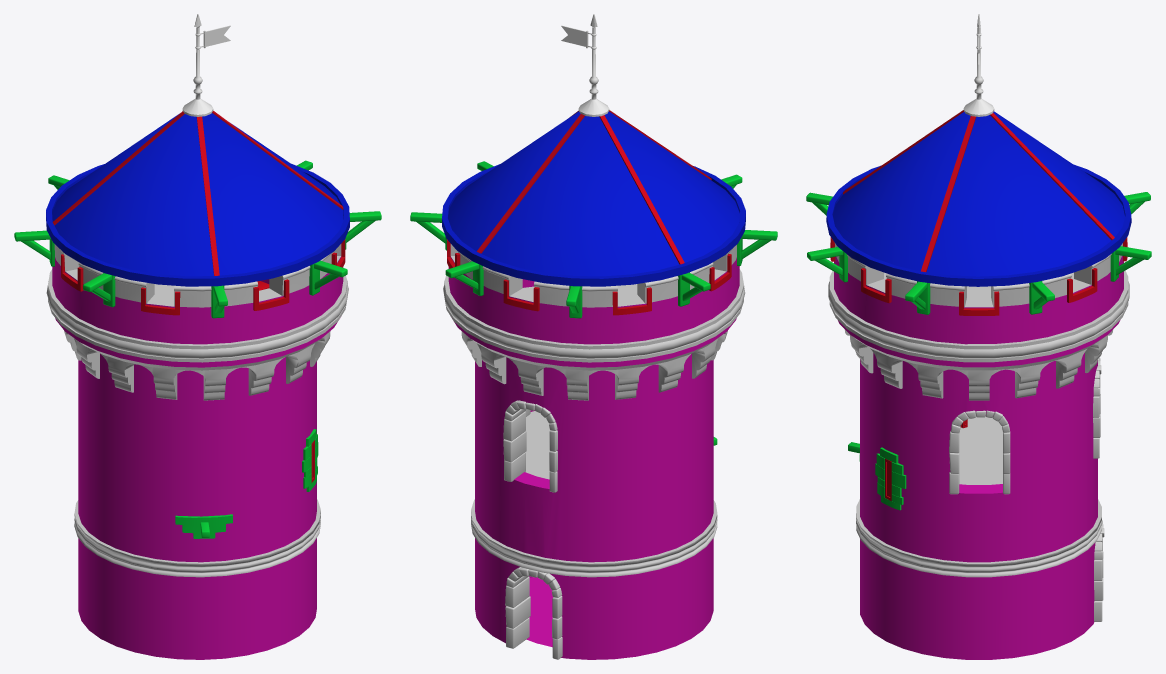
The model's file is Tower_3.fbx.
The picture shows the model from 3 angles, left to right: view 1: azimuth 30°, elevation 25°; view 2: azimuth 150°, elevation 25°; view 3: azimuth 270°, elevation 25°; orthographic projection.
Visible parts, largest first — view 1: Tower_1.004, Group_4.010, Group_4.011, Group_2, Group_2.007; view 2: Tower_1.004, Group_4.010, Group_4.011; view 3: Tower_1.004, Group_4.010, Group_2.007, Group_4.011.
Part boxes in pixels (x1,y1,x2,y2): Tower_1.004: [46, 239, 348, 659]; Group_4.010: [14, 111, 381, 318]; Group_4.011: [182, 14, 230, 116]; Group_2: [175, 514, 232, 538]; Group_2.007: [302, 429, 318, 491]; Tower_1.004: [443, 239, 745, 659]; Group_4.010: [410, 110, 777, 318]; Group_4.011: [561, 14, 609, 116]; Tower_1.004: [828, 237, 1129, 659]; Group_4.010: [806, 110, 1151, 314]; Group_2.007: [875, 447, 906, 510]; Group_4.011: [963, 14, 994, 116].
Bounding box in the file's own units: 933 × 1774 × 933.
